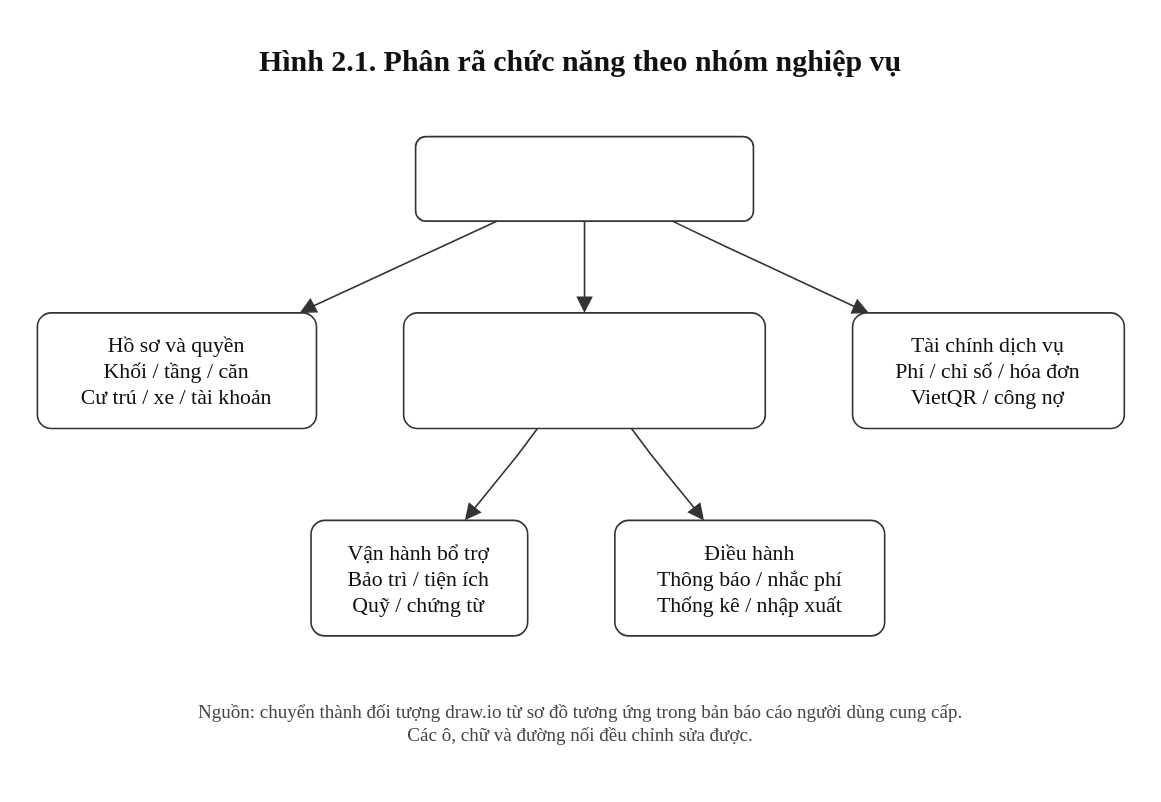
This 1161x802 diagram has some shape labels left out. Each missing label, with the box of its shape:
Quản lý vận hành chung cư và tiếp nhận phản ánh: (414, 135, 754, 221)
Trọng tâm phản ánh Vị trí / thiết bị / QR Gửi / phân công / nghiệm thu: (402, 311, 765, 429)
